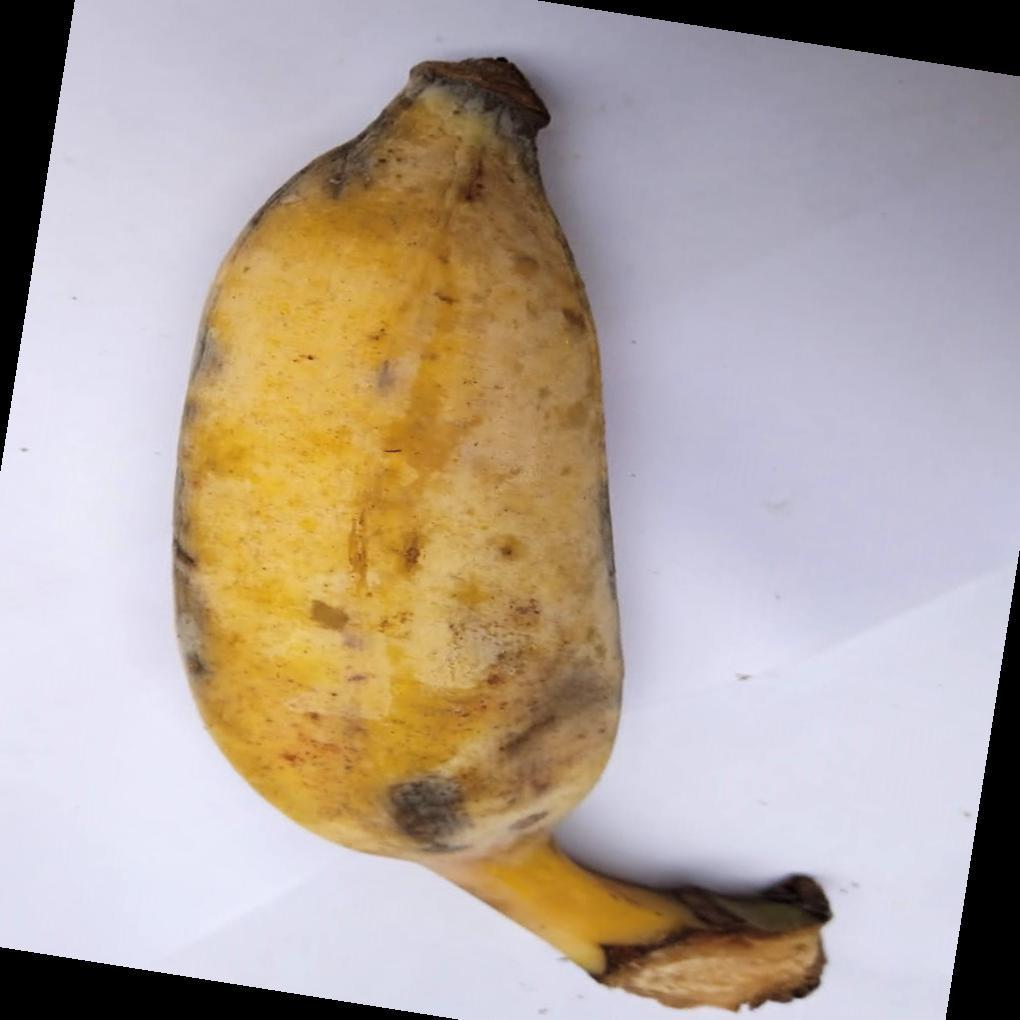Banana Ripe: (166, 41, 772, 1006)
